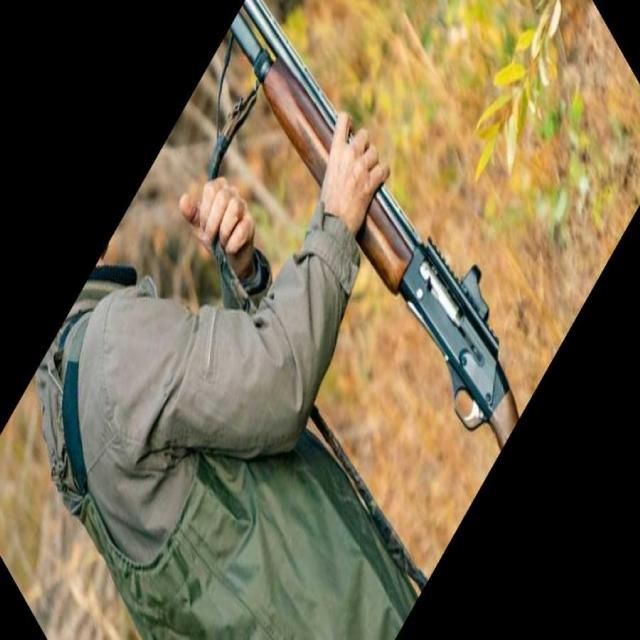weapon: (231, 1, 521, 452)
